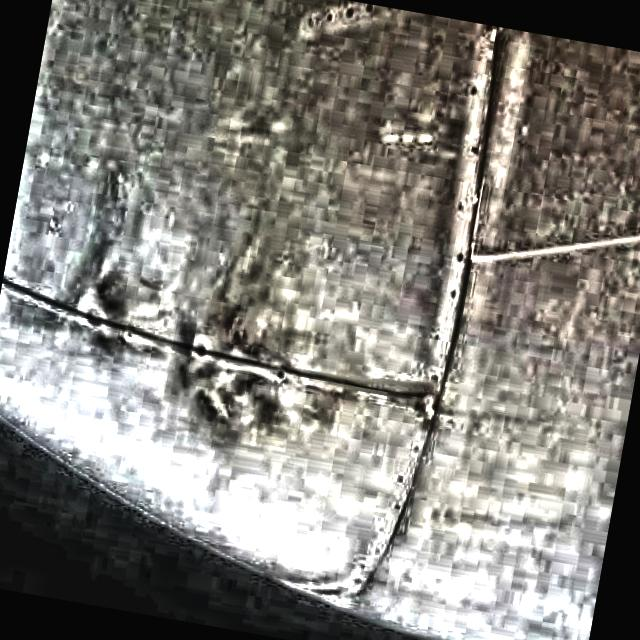crack: (278, 361, 436, 404)
